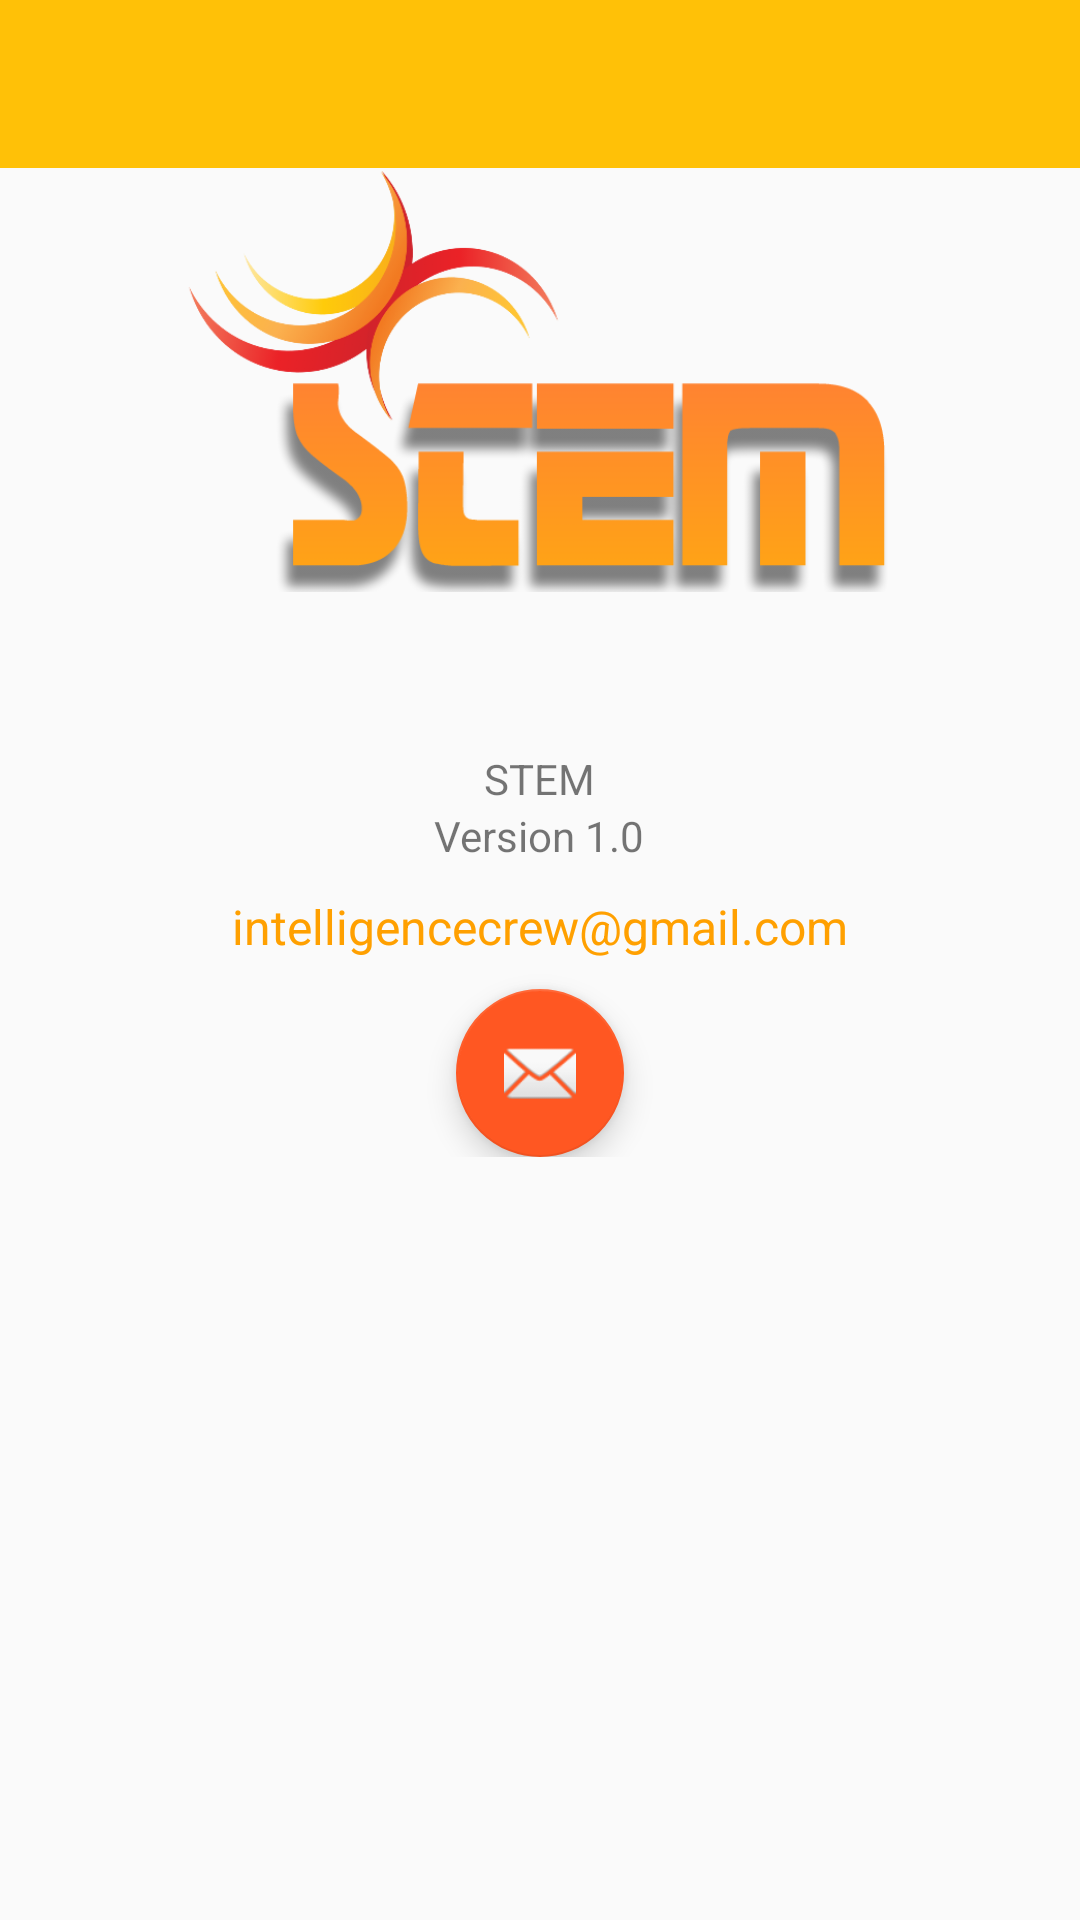

Named icons in this screenshot (1080w x 1920h) and their bounding boxes, {"left": x1, "top": y1, "right": x2, "bottom": y2}:
email: {"left": 456, "top": 989, "right": 624, "bottom": 1157}
